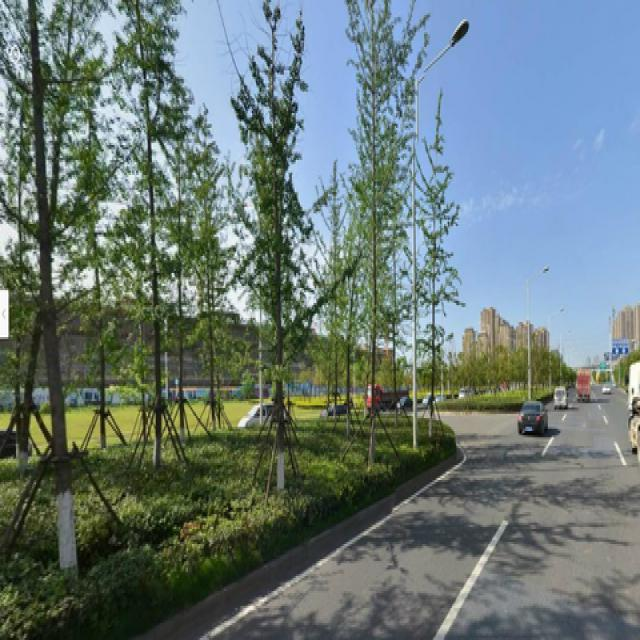gink: (13, 4, 99, 516), (118, 6, 190, 461), (245, 30, 307, 495), (353, 21, 407, 456), (425, 102, 464, 436), (192, 117, 229, 450)
